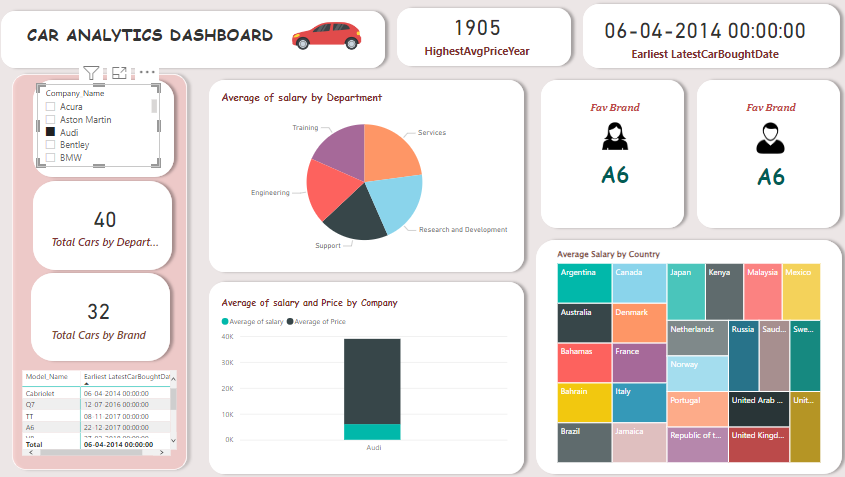

This screenshot's page, from the dashboard's own definition file:
{"tool":"powerbi","page":{"name":"Car","canvas":[1280,720],"ordinal":0},"visuals":[{"type":"shape","box":[23.9,104.5,279.1,609],"z":0},{"type":"shape","box":[55.2,113.4,228.4,162.7],"z":1000},{"type":"shape","box":[805.4,352.2,474.6,367.2],"z":2000},{"type":"shape","box":[317.9,414.9,488.1,304.5],"z":3000},{"type":"shape","box":[1046.3,113.4,231.3,238.8],"z":4000},{"type":"shape","box":[813.4,113.4,231.3,238.8],"z":5000},{"type":"shape","box":[876.1,0,401.5,113.4],"z":6000},{"type":"shape","box":[317.9,113.4,488.1,304.5],"z":7000},{"type":"shape","box":[7.5,10.4,591,103],"z":8000},{"type":"shape","box":[598.5,6,277.6,104.5],"z":9000},{"type":"shape","box":[55.2,264.2,225.4,150.7],"z":10000},{"type":"shape","box":[52.2,401.5,225.4,149.3],"z":11000},{"type":"card","fields":{"Values":["Cars.Count of Cars by Department"]},"box":[82.1,276.1,179.1,123.9],"z":12000},{"type":"slicer","fields":{"Values":["Cars.Company_Name "]},"box":[70.1,128.4,183.6,123.9],"z":13000},{"type":"card","fields":{"Values":["Cars.Count of Cars by Brand"]},"box":[43.3,401.5,237.3,149.3],"z":14000},{"type":"card","fields":{"Values":["Min(Cars.LatestCarBoughtDate)"]},"box":[891,0,352.2,113.4],"z":15000},{"type":"pivotTable","fields":{"Rows":["Cars.Model_Name"],"Values":["Min(Cars.LatestCarBoughtDate)"]},"box":[43.3,550.7,240.3,137.3],"z":16000},{"type":"treemap","title":"Average Salary by Country","fields":{"Group":["Company.Country"],"Values":["Cars.AverageSalaryByCountry"]},"box":[841.8,373.1,403,325.4],"z":17000},{"type":"card","title":"Fav Brand","fields":{"Values":["Cars.MostPopularCarBrandFemale"]},"box":[830.8,153.7,203,198.5],"z":18000},{"type":"card","title":"Fav Brand","fields":{"Values":["Cars.MostPopularCarBrandMale"]},"box":[1070.1,153.7,191,206],"z":19000},{"type":"pieChart","title":"Average of salary by Department","fields":{"Category":["Emplyee Details (2).department"],"Y":["Avg(Emplyee Details (2).salary)"]},"box":[340.3,137.3,437.3,255.2],"z":20000},{"type":"columnChart","title":"Average of salary and Price by Company","fields":{"Category":["Cars.Company_Name "],"Y":["Avg(Emplyee Details (2).salary)","Avg(Cars.Price)"]},"box":[340.3,444.8,437.3,243.3],"z":21000},{"type":"textbox","box":[7.5,32.8,462.7,71.6],"z":22000},{"type":"card","title":"Make Year with Highest Average Car Price","fields":{"Values":["Cars.HighestAvgPriceYear"]},"box":[613.4,0,226.9,104.5],"z":23000},{"type":"image","box":[898.5,180.6,68.7,50.7],"z":24000},{"type":"image","box":[406,0,192.5,113.4],"z":25000},{"type":"image","box":[1114.9,176.1,100,64.2],"z":26000}]}

Visuals, with their boxes in screenshot pixels (x1, y1, x2, y2), scaled from the page's 1280x720 canvas onto the 845x477 screenshot:
shape: BBox(16, 69, 200, 473)
shape: BBox(36, 75, 187, 183)
shape: BBox(532, 233, 844, 476)
shape: BBox(210, 275, 532, 476)
shape: BBox(691, 75, 843, 233)
shape: BBox(537, 75, 690, 233)
shape: BBox(578, 0, 843, 75)
shape: BBox(210, 75, 532, 277)
shape: BBox(5, 7, 395, 75)
shape: BBox(395, 4, 578, 73)
shape: BBox(36, 175, 185, 275)
shape: BBox(34, 266, 183, 365)
card - Cars.Count of Cars by Department: BBox(54, 183, 172, 265)
slicer - Cars.Company_Name : BBox(46, 85, 167, 167)
card - Cars.Count of Cars by Brand: BBox(29, 266, 185, 365)
card - Min(Cars.LatestCarBoughtDate): BBox(588, 0, 821, 75)
pivotTable - Cars.Model_Name x Min(Cars.LatestCarBoughtDate): BBox(29, 365, 187, 456)
"Average Salary by Country" treemap: BBox(556, 247, 822, 463)
"Fav Brand" card: BBox(548, 102, 682, 233)
"Fav Brand" card: BBox(706, 102, 833, 238)
"Average of salary by Department" pieChart: BBox(225, 91, 513, 260)
"Average of salary and Price by Company" columnChart: BBox(225, 295, 513, 456)
textbox: BBox(5, 22, 310, 69)
"Make Year with Highest Average Car Price" card: BBox(405, 0, 555, 69)
image: BBox(593, 120, 639, 153)
image: BBox(268, 0, 395, 75)
image: BBox(736, 117, 802, 159)
